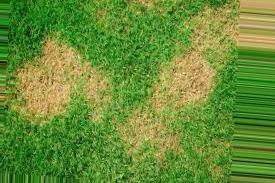patch: (19, 47, 92, 127), (129, 3, 214, 41), (116, 108, 185, 150), (160, 55, 214, 106)
